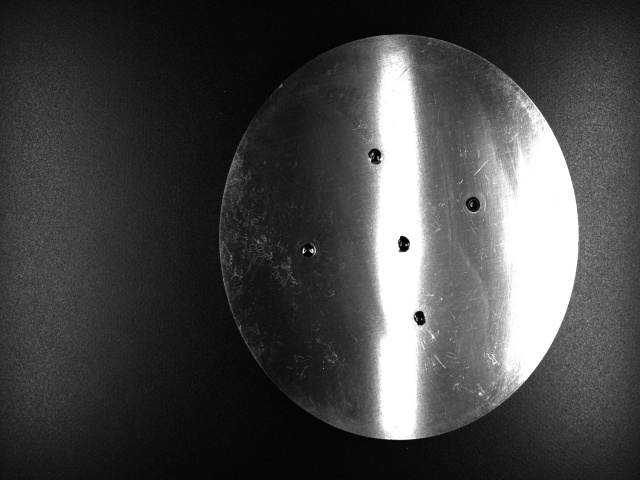zhen_kong: (462, 191, 489, 217), (297, 240, 321, 260), (365, 146, 387, 166), (395, 232, 415, 253), (411, 306, 427, 329)
